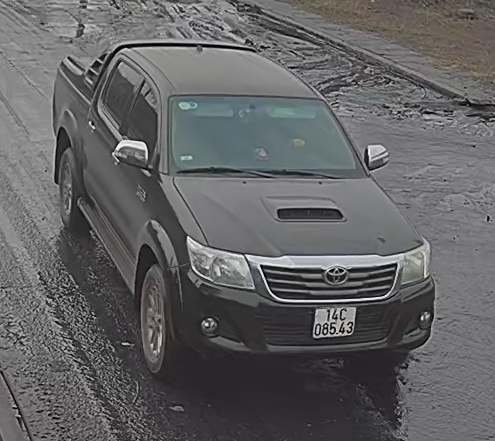vehicle plate: (310, 301, 360, 343)
